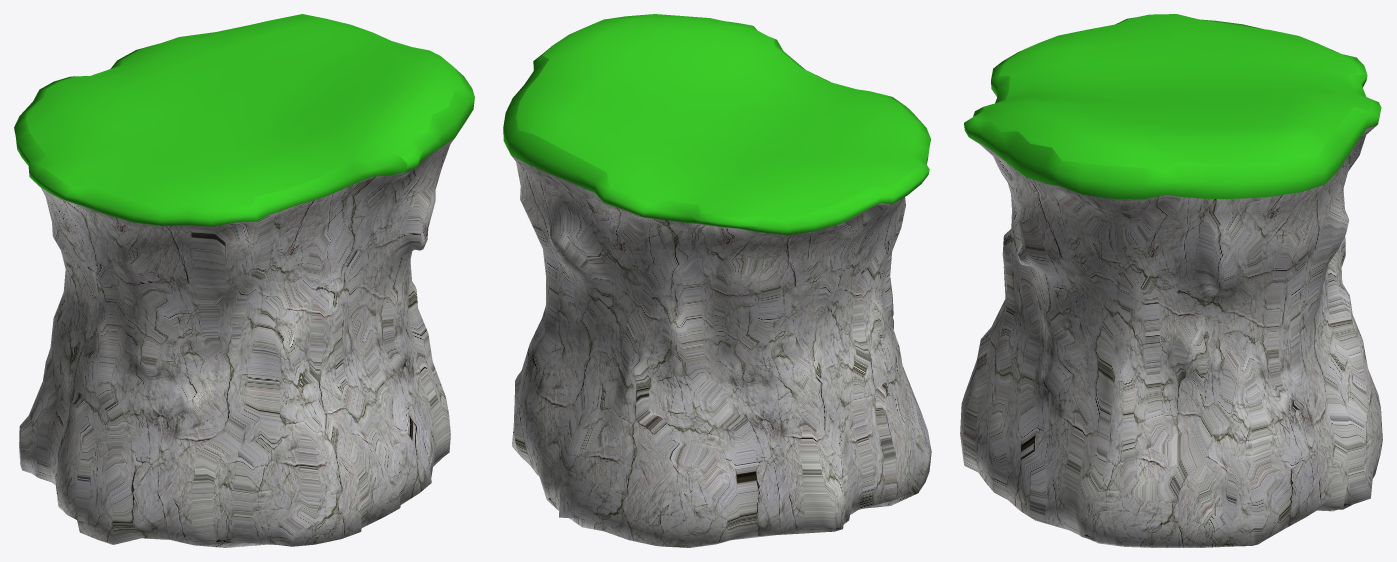
The model's file is SM_RockMound.FBX.
The picture shows the model from 3 angles, left to right: view 1: azimuth 30°, elevation 25°; view 2: azimuth 150°, elevation 25°; view 3: azimuth 270°, elevation 25°; orthographic projection. The views are drawn at different scales.
Parts seen in each view (by area): view 1: Mound; view 2: Mound; view 3: Mound.
Part boxes in pixels (x1,y1,x2,y2): Mound: (14, 14, 474, 547); Mound: (503, 14, 931, 547); Mound: (960, 14, 1382, 547).
Size of the model in its own units: 1245 by 1211 by 1119.
2 materials, 1 textured.
